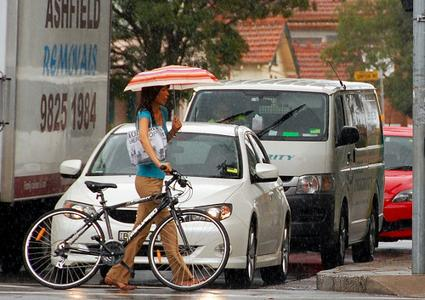person: (105, 84, 212, 292)
